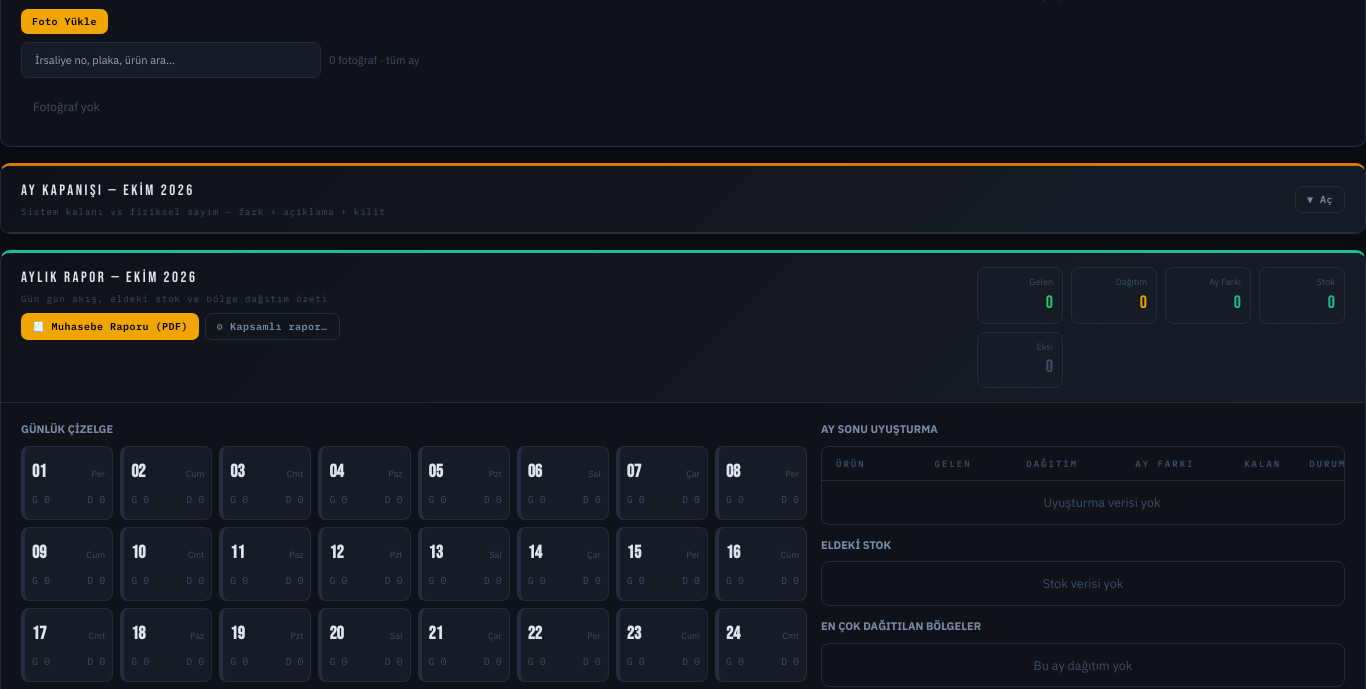
Test: WaterPage tek-ekran pano smoke › fotoğrafı olmayan aralıkta rapor fotoğraf bölümünü seçili saymaz
(page scrolled)
Click the button "⚙ Kapsamlı rapor…": (272, 326) [205, 313, 340, 340]
(page scrolled)
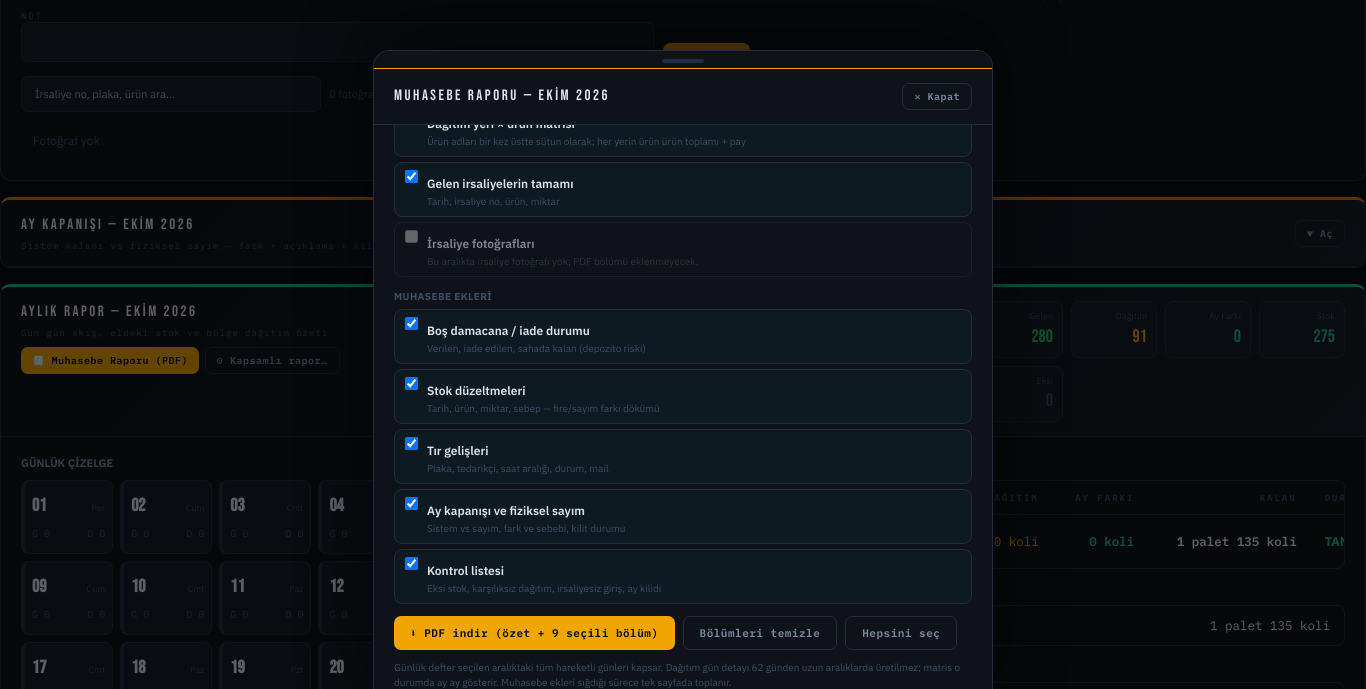
Expected: the checkbox labelled "İrsaliye fotoğrafları" is disabled, [405, 230, 418, 243]
Expected: the checkbox labelled "İrsaliye fotoğrafları" is not checked, [405, 230, 418, 243]
Expected: the button "⬇ PDF indir (özet + 9 seçili bölüm)" is shown, [394, 616, 674, 650]
